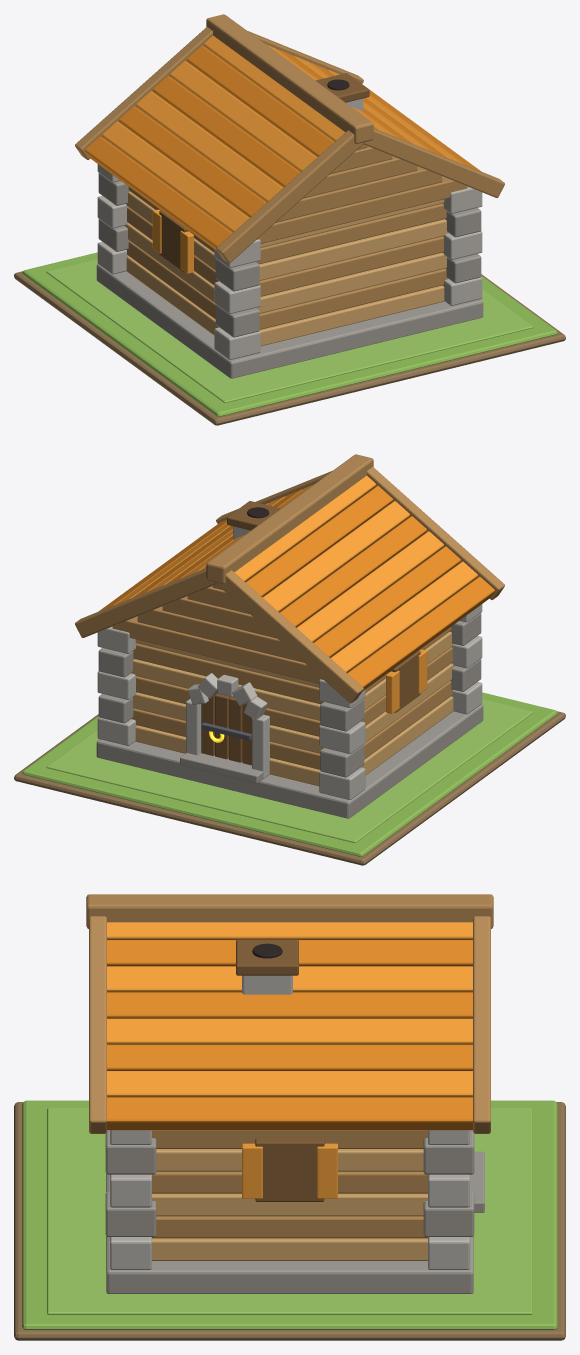
Rendered from town_hall_lv1.glb.
3 views of the same model, one above another, from view 1: azimuth 30°, elevation 25°; view 2: azimuth 150°, elevation 25°; view 3: azimuth 270°, elevation 25° (orthographic). The views are drawn at different scales.
Parts seen in each view (by area): view 1: Base_Inner, StoneFoundation, Base_Grass, Base_Dirt, WallPlank_0, RidgeBeam, WallPlank_1, WallPlank_2, WallPlank_4, RoofSlope_-1_7, WallPlank_3, Bargeboard_-1_-1 (+38 smaller); view 2: Base_Inner, Base_Grass, StoneFoundation, Base_Dirt, RidgeBeam, RoofSlope_-1_7, Bargeboard_1_-1, RoofSlope_-1_3, RoofSlope_-1_2, RoofSlope_-1_4, RoofSlope_-1_6, RoofSlope_-1_5 (+44 smaller); view 3: Base_Inner, Base_Grass, RoofSlope_1_7, StoneFoundation, RidgeBeam, Base_Dirt, RoofSlope_1_4, RoofSlope_1_5, RoofSlope_1_6, RoofSlope_1_3, RoofSlope_1_2, RoofSlope_1_1 (+25 smaller).
Boxes of the visible parts, bbox=[...] form: Base_Inner: bbox=[46, 259, 533, 402]; StoneFoundation: bbox=[96, 264, 483, 378]; Base_Grass: bbox=[22, 252, 557, 416]; Base_Dirt: bbox=[14, 271, 565, 425]; WallPlank_0: bbox=[126, 256, 444, 346]; RidgeBeam: bbox=[206, 14, 373, 143]; WallPlank_1: bbox=[126, 241, 448, 329]; WallPlank_2: bbox=[124, 223, 446, 313]; WallPlank_4: bbox=[126, 191, 448, 280]; RoofSlope_-1_7: bbox=[85, 136, 232, 251]; WallPlank_3: bbox=[127, 207, 443, 296]; Bargeboard_-1_-1: bbox=[216, 130, 363, 263]; Base_Inner: bbox=[46, 699, 533, 842]; Base_Grass: bbox=[22, 692, 557, 856]; StoneFoundation: bbox=[96, 704, 483, 818]; Base_Dirt: bbox=[14, 711, 565, 865]; RidgeBeam: bbox=[206, 454, 373, 583]; RoofSlope_-1_7: bbox=[347, 576, 494, 691]; Bargeboard_1_-1: bbox=[216, 570, 363, 703]; RoofSlope_-1_3: bbox=[279, 516, 426, 627]; RoofSlope_-1_2: bbox=[262, 501, 409, 612]; RoofSlope_-1_4: bbox=[296, 531, 443, 642]; RoofSlope_-1_6: bbox=[330, 561, 477, 672]; RoofSlope_-1_5: bbox=[314, 546, 460, 657]; Base_Inner: bbox=[47, 1108, 532, 1314]; Base_Grass: bbox=[22, 1100, 557, 1329]; RoofSlope_1_7: bbox=[107, 1097, 472, 1130]; StoneFoundation: bbox=[106, 1174, 473, 1293]; RidgeBeam: bbox=[86, 894, 493, 928]; Base_Dirt: bbox=[14, 1102, 565, 1340]; RoofSlope_1_4: bbox=[107, 1018, 472, 1044]; RoofSlope_1_5: bbox=[107, 1044, 472, 1070]; RoofSlope_1_6: bbox=[107, 1071, 472, 1097]; RoofSlope_1_3: bbox=[107, 992, 472, 1018]; RoofSlope_1_2: bbox=[107, 966, 472, 992]; RoofSlope_1_1: bbox=[107, 940, 472, 966].
Size of the model in its own units: 3.68 by 2.4 by 3.68.
